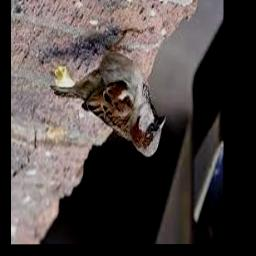Sparrow: (51, 31, 166, 159)
